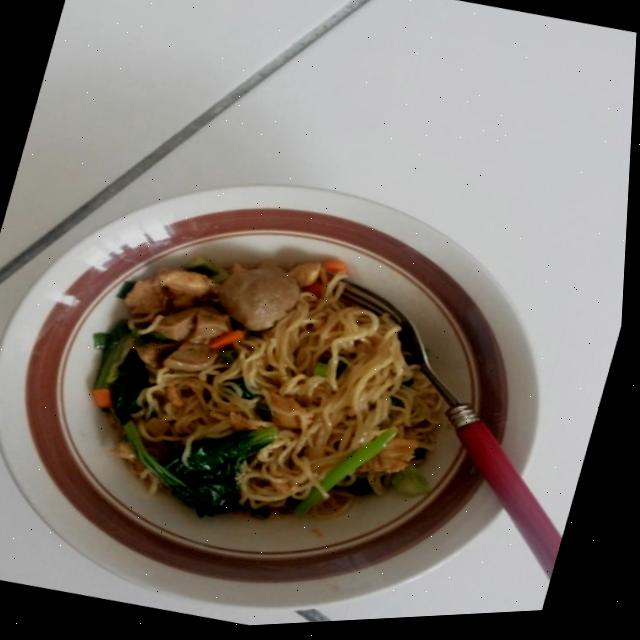面条主食: (0, 119, 600, 640)
